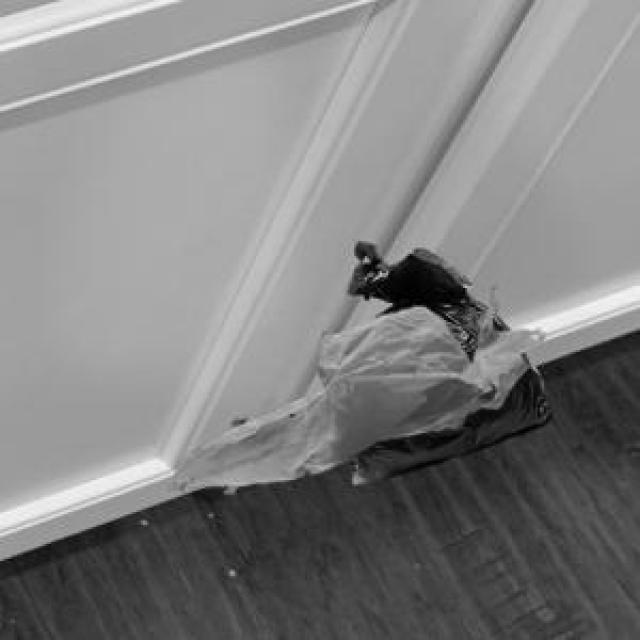miscellaneous trash: (344, 237, 548, 480)
